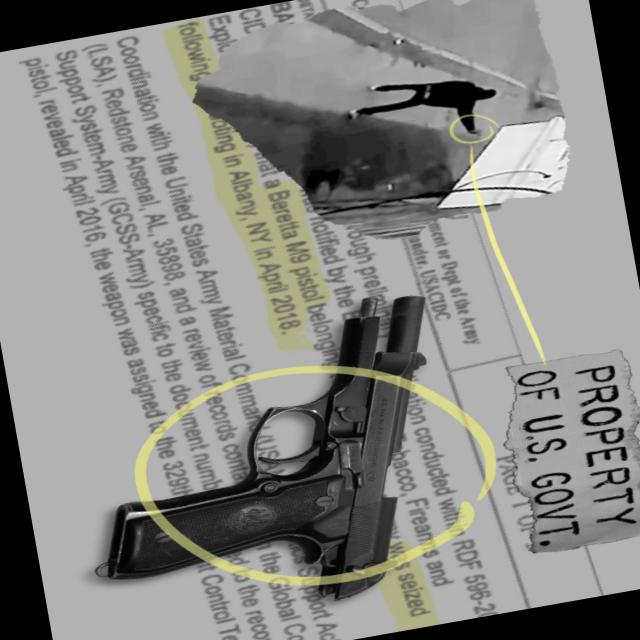handgun: (80, 271, 472, 627)
